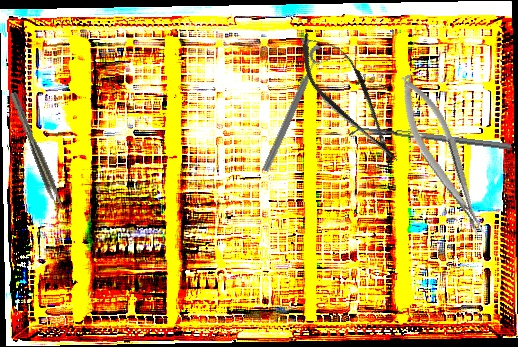Fixation Ring: (258, 43, 334, 177)
Micro Scissor: (285, 20, 415, 176)
Needle Holder: (389, 68, 494, 244)
Spatula Surgical: (348, 124, 512, 156)
Tissue Forceps: (9, 90, 66, 213)
